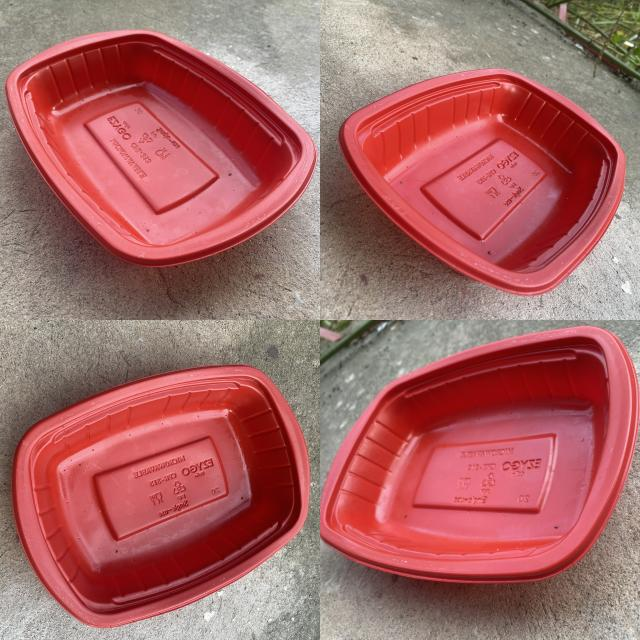Single-Use-Plastic: (321, 326, 639, 582), (12, 365, 310, 628), (6, 31, 316, 266), (339, 69, 625, 294)
